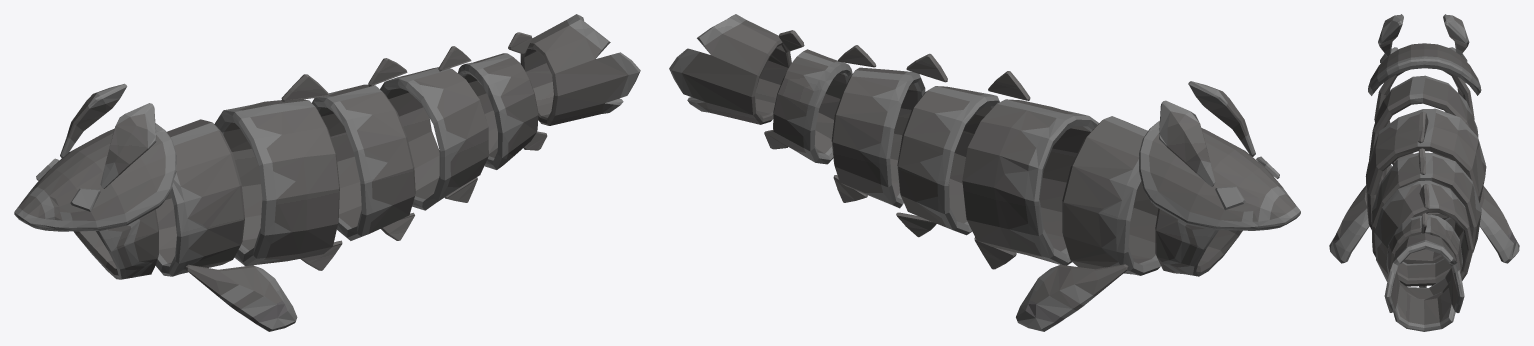
File: CharSkyKid_Prop_ColorKiteTunaKing.glb
3 renders of one model, left to right at view 1: azimuth 30°, elevation 25°; view 2: azimuth 150°, elevation 25°; view 3: azimuth 270°, elevation 25°, orthographic. The views are drawn at different scales.
Parts seen in each view (by area): view 1: CharSkyKid_Prop_ColorKiteTunaKing; view 2: CharSkyKid_Prop_ColorKiteTunaKing; view 3: CharSkyKid_Prop_ColorKiteTunaKing.
Boxes of the visible parts, left/top/right/bottom form: CharSkyKid_Prop_ColorKiteTunaKing: left=14, top=14, right=640, bottom=331; CharSkyKid_Prop_ColorKiteTunaKing: left=669, top=14, right=1300, bottom=331; CharSkyKid_Prop_ColorKiteTunaKing: left=1329, top=14, right=1519, bottom=331.
Bounding box in the file's own units: 67.66 × 23.89 × 21.08.
Materials: 1 (1 with a texture image).
